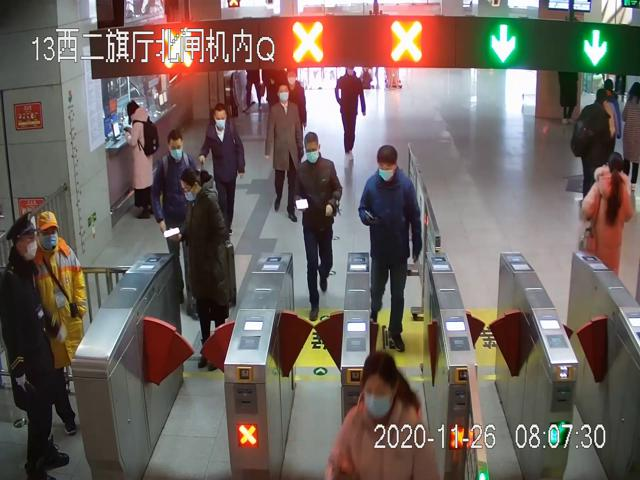person: (0, 213, 70, 480), (172, 166, 236, 373), (360, 144, 422, 352), (33, 209, 89, 437), (294, 132, 343, 320), (153, 130, 197, 305), (201, 103, 246, 248), (266, 82, 300, 220), (121, 98, 159, 220), (335, 67, 365, 162)
